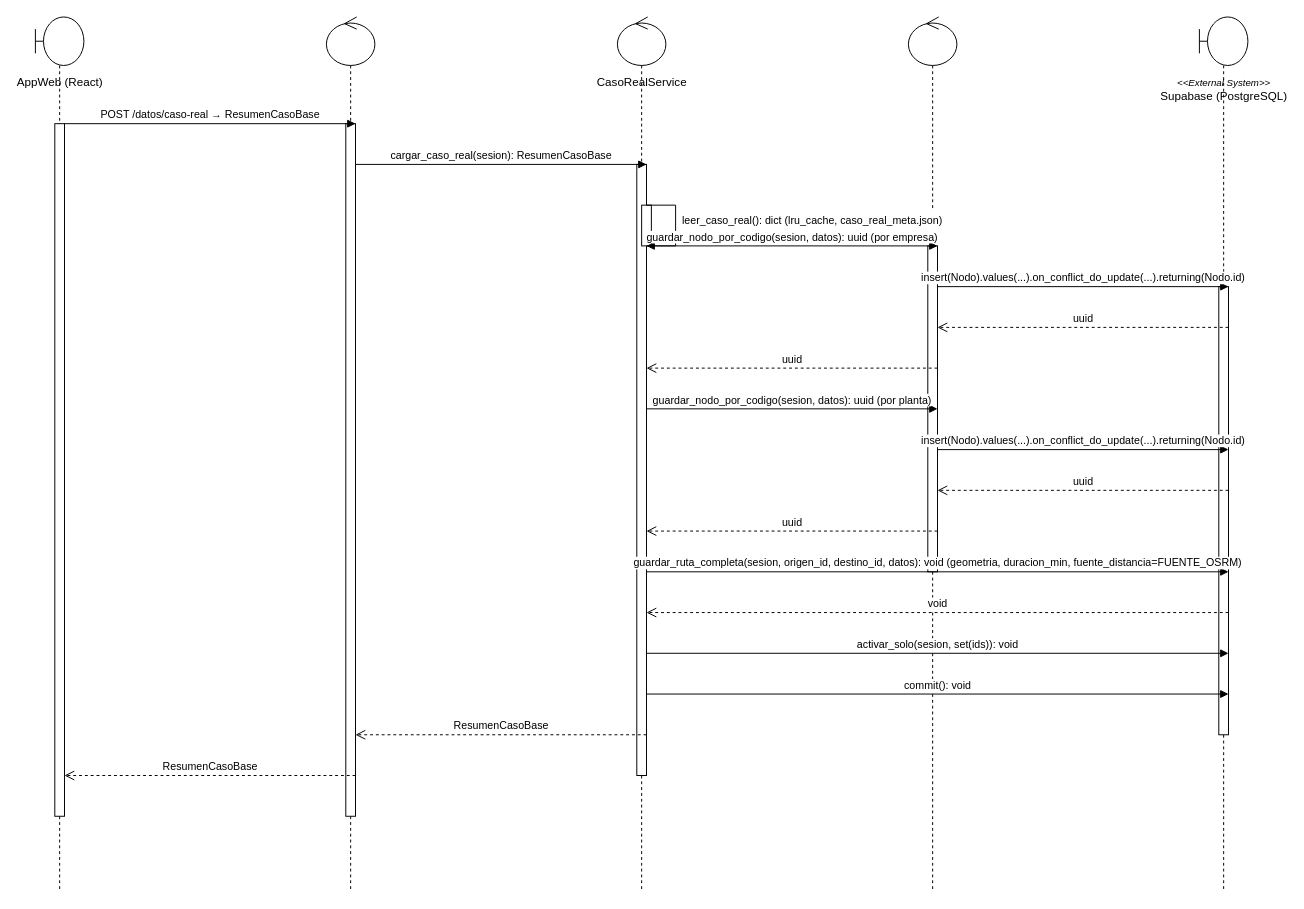
This 1304x909 diagram has some shape labels left out. The box of each missing label's shape, as (x1, y1, x2, y2) in pixels:
DatosRouter: (325, 16, 375, 892)
NodoRepository: (907, 16, 957, 892)
